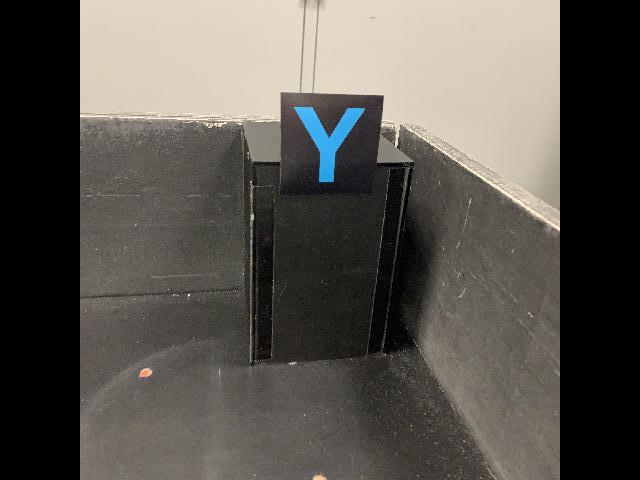y: (278, 90, 385, 197)
